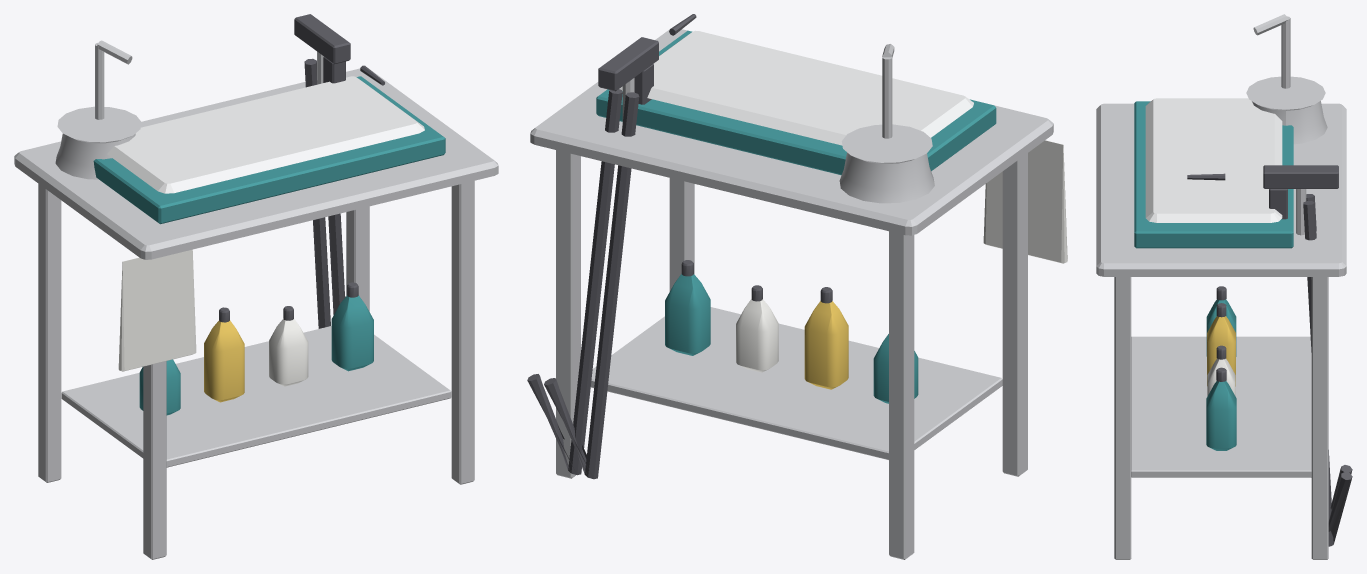
File: dry-cleaners-and-alterations-shop-spotting-board-147c7206__34960.glb
The picture shows the model from 3 angles, left to right: view 1: azimuth 30°, elevation 25°; view 2: azimuth 150°, elevation 25°; view 3: azimuth 270°, elevation 25°; orthographic projection. The views are drawn at different scales.
Parts seen in each view (by area): view 1: spotting-board; view 2: spotting-board; view 3: spotting-board.
Boxes of the visible parts, left/top/right/bottom form: spotting-board: left=14, top=14, right=498, bottom=559; spotting-board: left=527, top=14, right=1067, bottom=559; spotting-board: left=1096, top=14, right=1352, bottom=559.
Size of the model in its own units: 1.07 by 1.21 by 0.6757.
